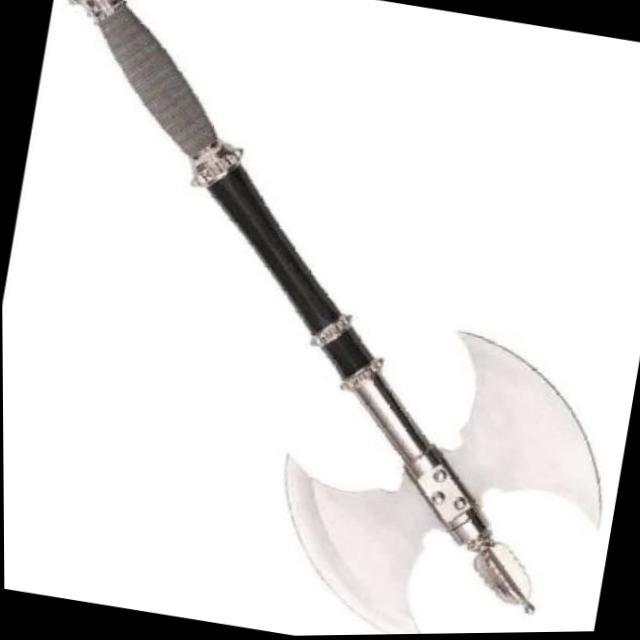weapon: (0, 0, 634, 624)
